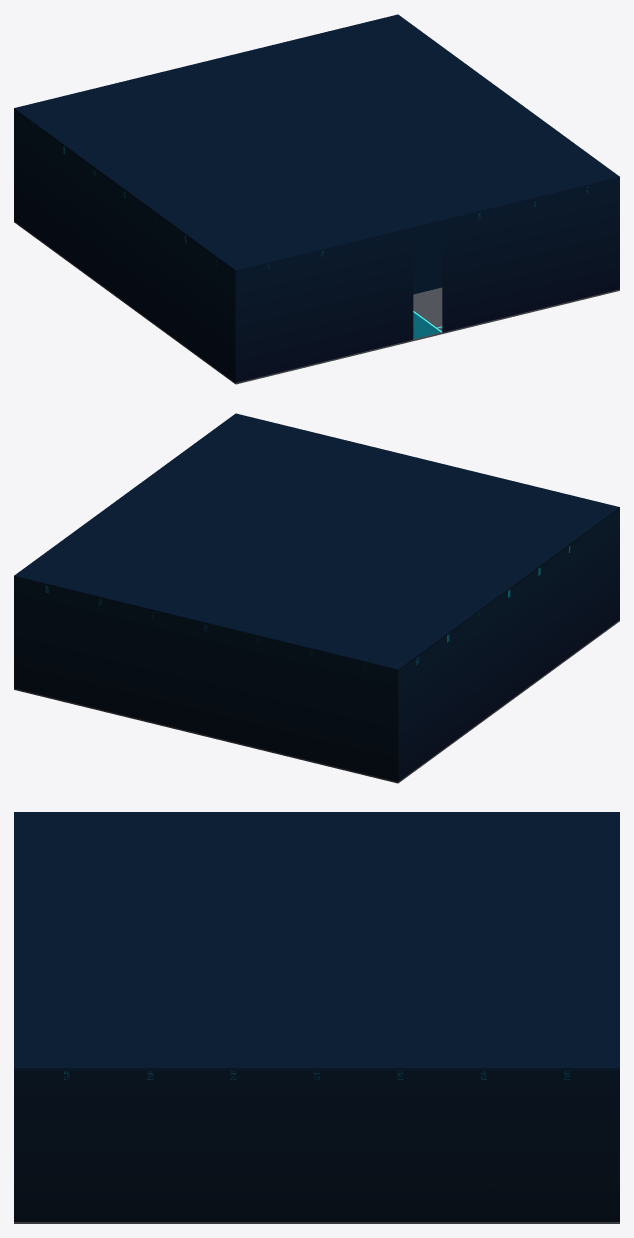
The model's file is shaddai_hall_zerox_v01.glb.
The picture shows the model from 3 angles, top to bottom: view 1: azimuth 30°, elevation 25°; view 2: azimuth 150°, elevation 25°; view 3: azimuth 270°, elevation 25°; orthographic projection. The views are drawn at different scales.
Visible parts, largest first — view 1: shaddai_hall_zerox; view 2: shaddai_hall_zerox; view 3: shaddai_hall_zerox.
Part boxes in pixels (x1=…): shaddai_hall_zerox: x1=14, y1=14, x2=619, y2=384; shaddai_hall_zerox: x1=14, y1=413, x2=619, y2=783; shaddai_hall_zerox: x1=14, y1=812, x2=619, y2=1223.
Bounding box in the file's own units: 80 × 22.7 × 80.
